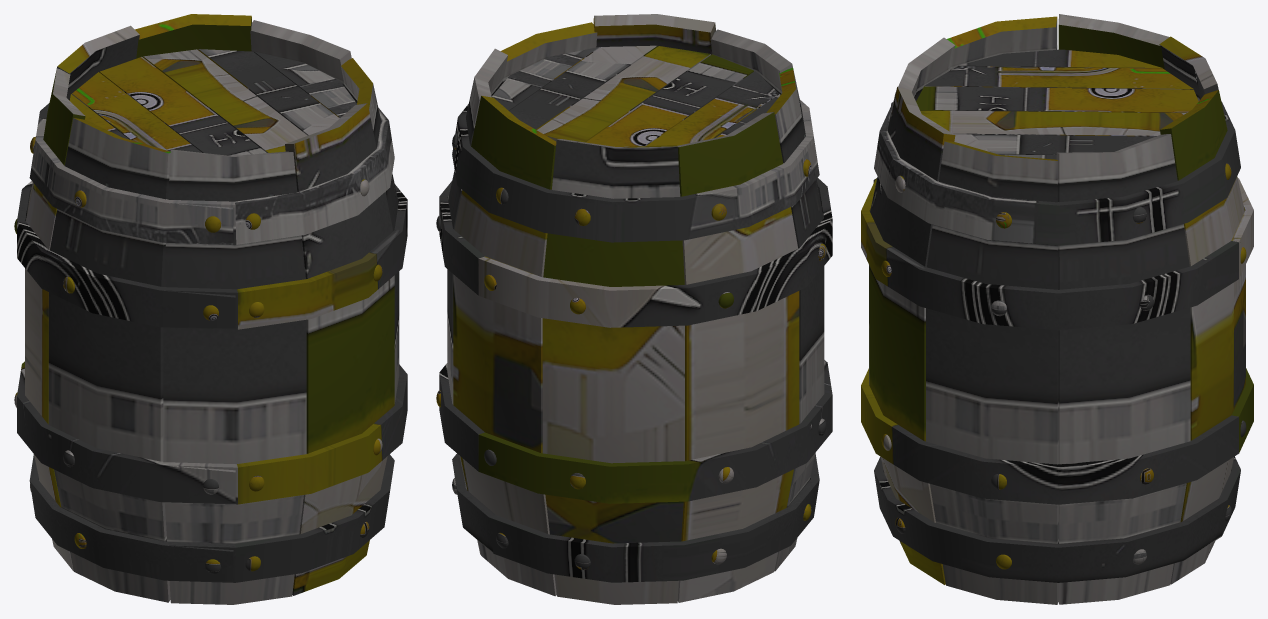
File: piratebarrel.obj
3 views of the same model, side by side, from view 1: azimuth 30°, elevation 25°; view 2: azimuth 150°, elevation 25°; view 3: azimuth 270°, elevation 25° (orthographic).
Visible parts, largest first — view 1: barrel_0; view 2: barrel_0; view 3: barrel_0.
Part boxes in pixels (box(x1,y1,x2,y2)): barrel_0: box(14, 14, 407, 604); barrel_0: box(436, 14, 832, 604); barrel_0: box(861, 14, 1253, 604).
Size of the model in its own units: 60.89 by 78.02 by 60.89.
